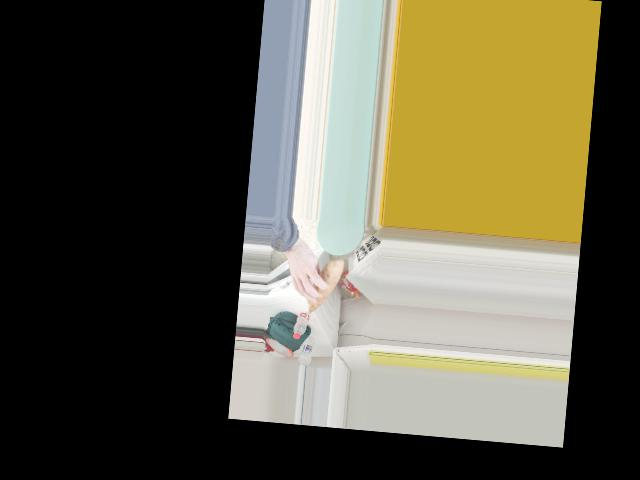sweet_potato: (297, 265, 342, 312)
